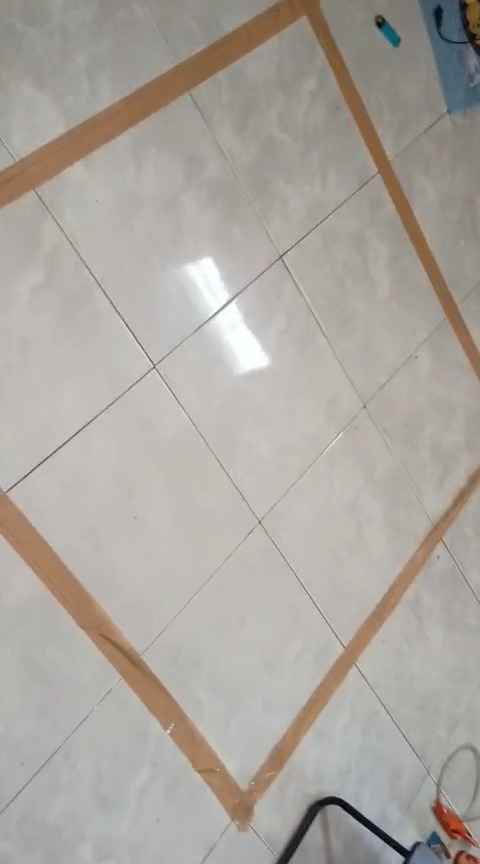floor marking: (2, 0, 479, 380), (0, 467, 479, 827)
